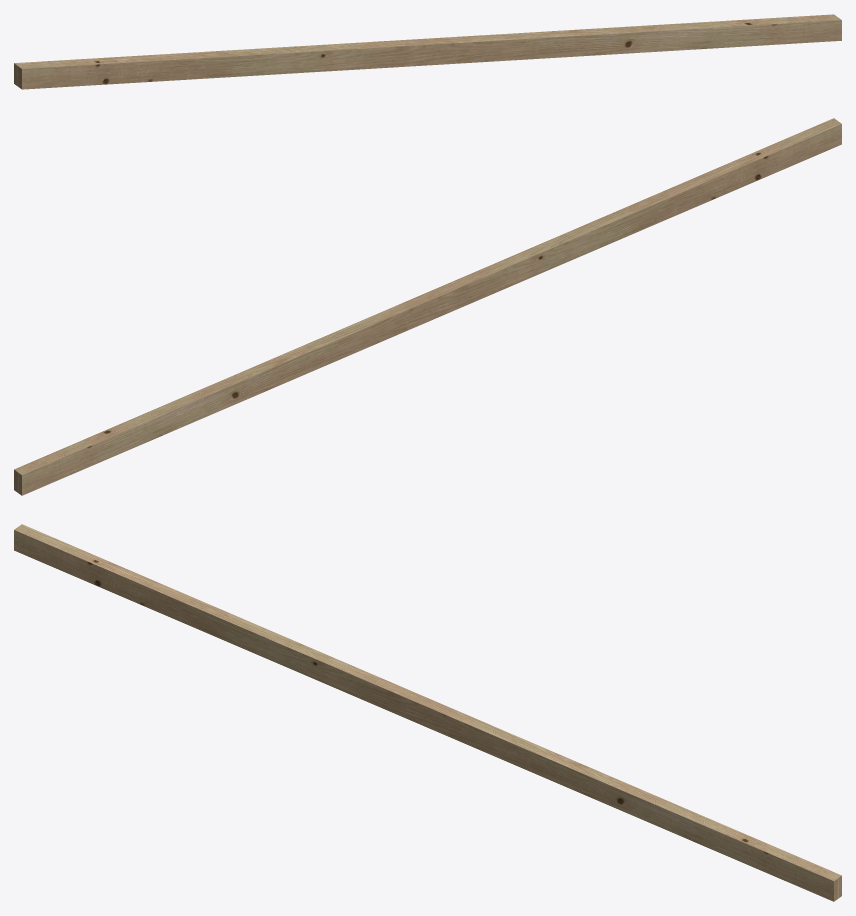
File: Joglo_part_313.fbx
The picture shows the model from 3 angles, top to bottom: view 1: azimuth 30°, elevation 25°; view 2: azimuth 210°, elevation 25°; view 3: azimuth 330°, elevation 25°; orthographic projection.
Parts seen in each view (by area): view 1: Mesh374_Wood___Pine_Grained_Horizontal_0.001; view 2: Mesh374_Wood___Pine_Grained_Horizontal_0.001; view 3: Mesh374_Wood___Pine_Grained_Horizontal_0.001.
Part boxes in pixels (bbox=[...]): Mesh374_Wood___Pine_Grained_Horizontal_0.001: bbox=[14, 14, 841, 89]; Mesh374_Wood___Pine_Grained_Horizontal_0.001: bbox=[14, 118, 841, 495]; Mesh374_Wood___Pine_Grained_Horizontal_0.001: bbox=[14, 524, 841, 901].
Bounding box in the file's own units: 117 × 23.37 × 1.97.
